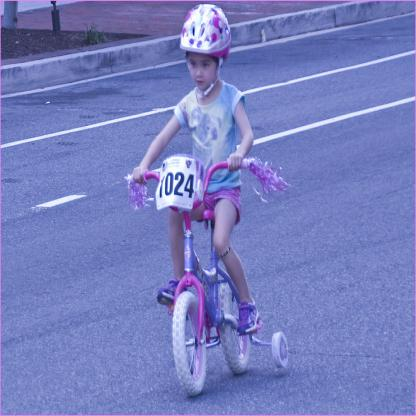Helmet: (179, 7, 230, 94)
